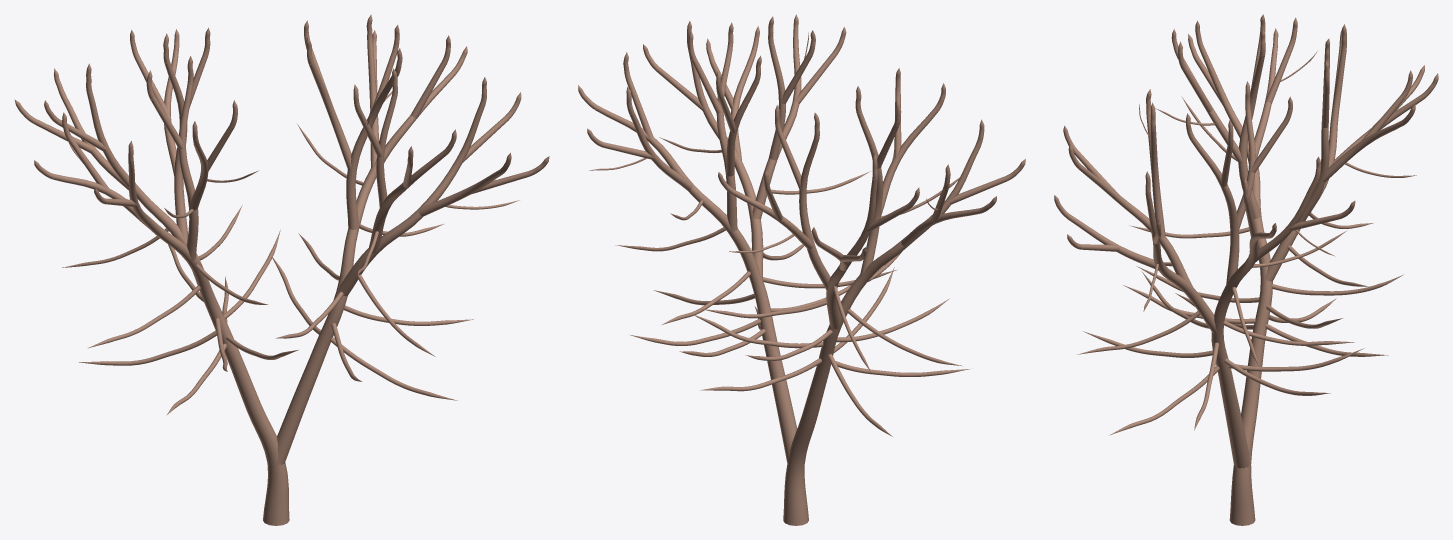
Rendered from Tree02.fbx.
3 renders of one model, left to right at view 1: azimuth 30°, elevation 25°; view 2: azimuth 150°, elevation 25°; view 3: azimuth 270°, elevation 25°, orthographic. The views are drawn at different scales.
Visible parts, largest first — view 1: tree; view 2: tree; view 3: tree.
Part boxes in pixels (bbox=[...]): tree: bbox=[14, 14, 549, 525]; tree: bbox=[578, 14, 1025, 525]; tree: bbox=[1054, 14, 1438, 525].
Bounding box in the file's own units: 1451 × 1523 × 1161.
